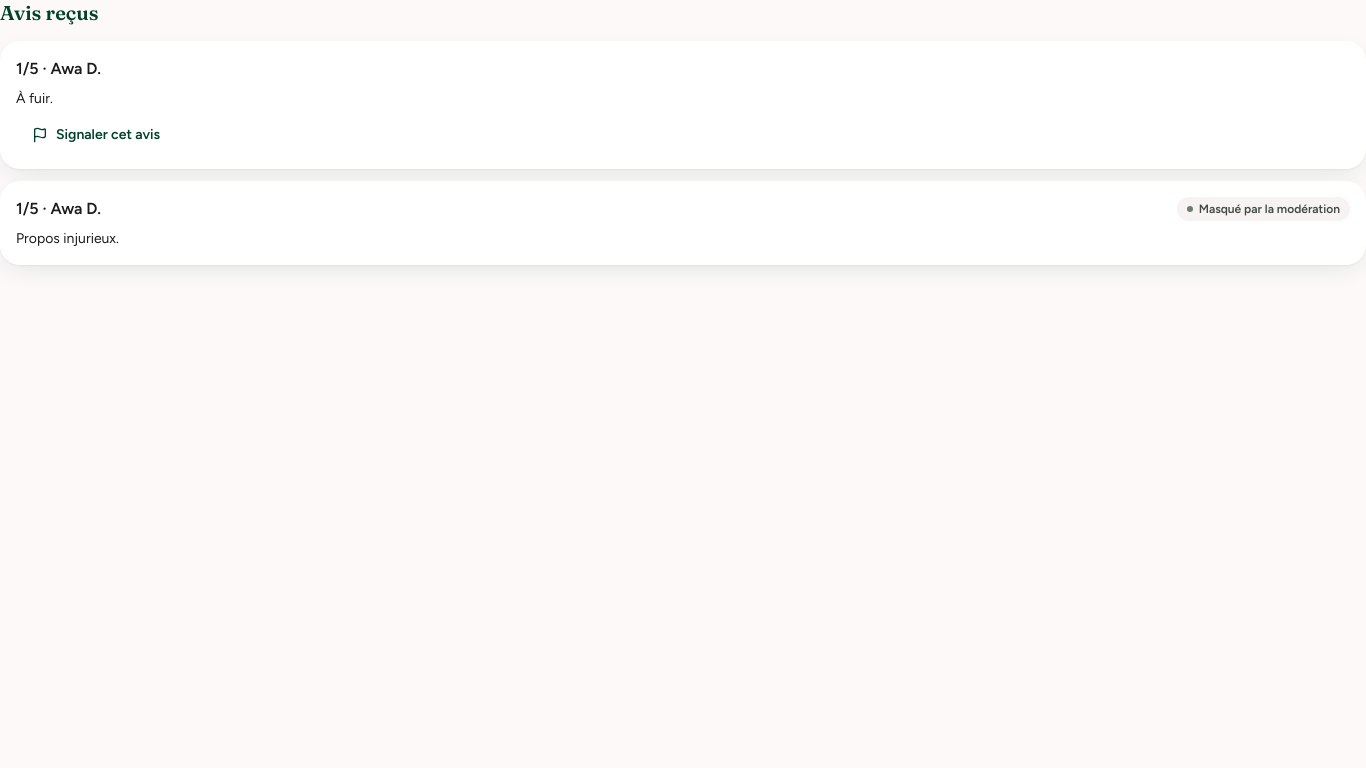
MyReviewsSection › montre la décision de modération et permet un signalement motivé, une seule fois
Expected: the text "Masqué par la modération" is shown, [1177,197,1350,221]
Click the button "Signaler cet avis": click(96, 135) [16,117,176,153]
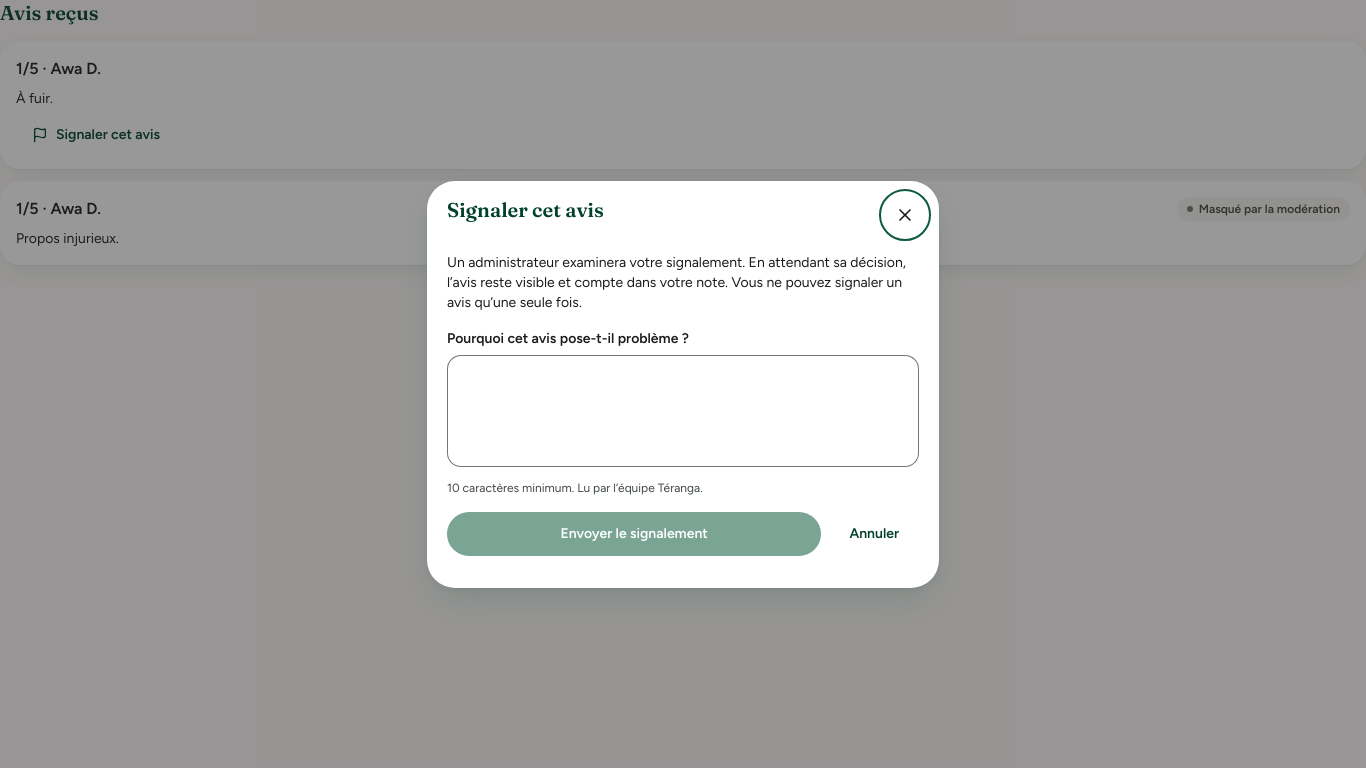
Now the text "l’avis reste visible et compte dans votre note" is shown, box [447,254,906,310]
Now the button "Envoyer le signalement" is disabled, box [447,512,821,556]
In the text box: (683, 410) [447,354,919,466], type "Ce client ne m’a jamais fait appel."
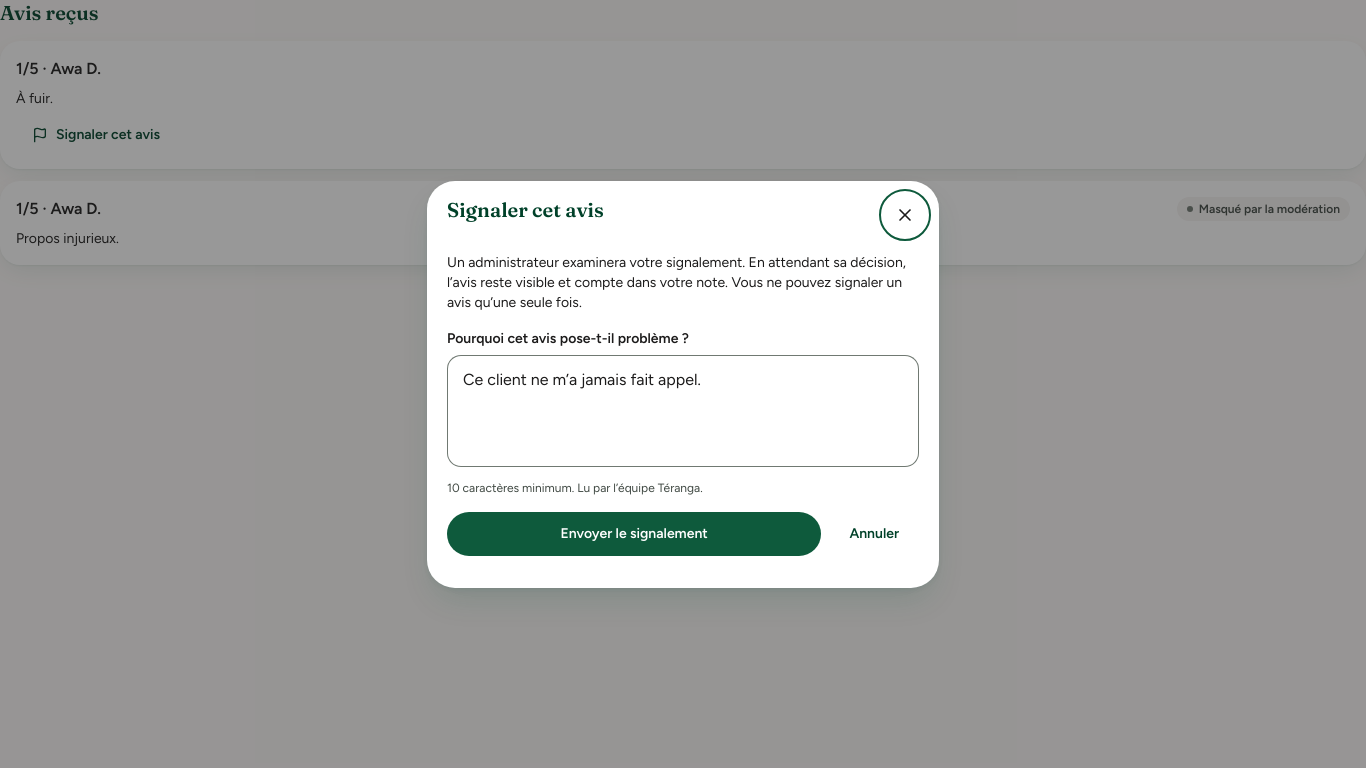
Click the button "Envoyer le signalement": click(634, 534) [447,512,821,556]
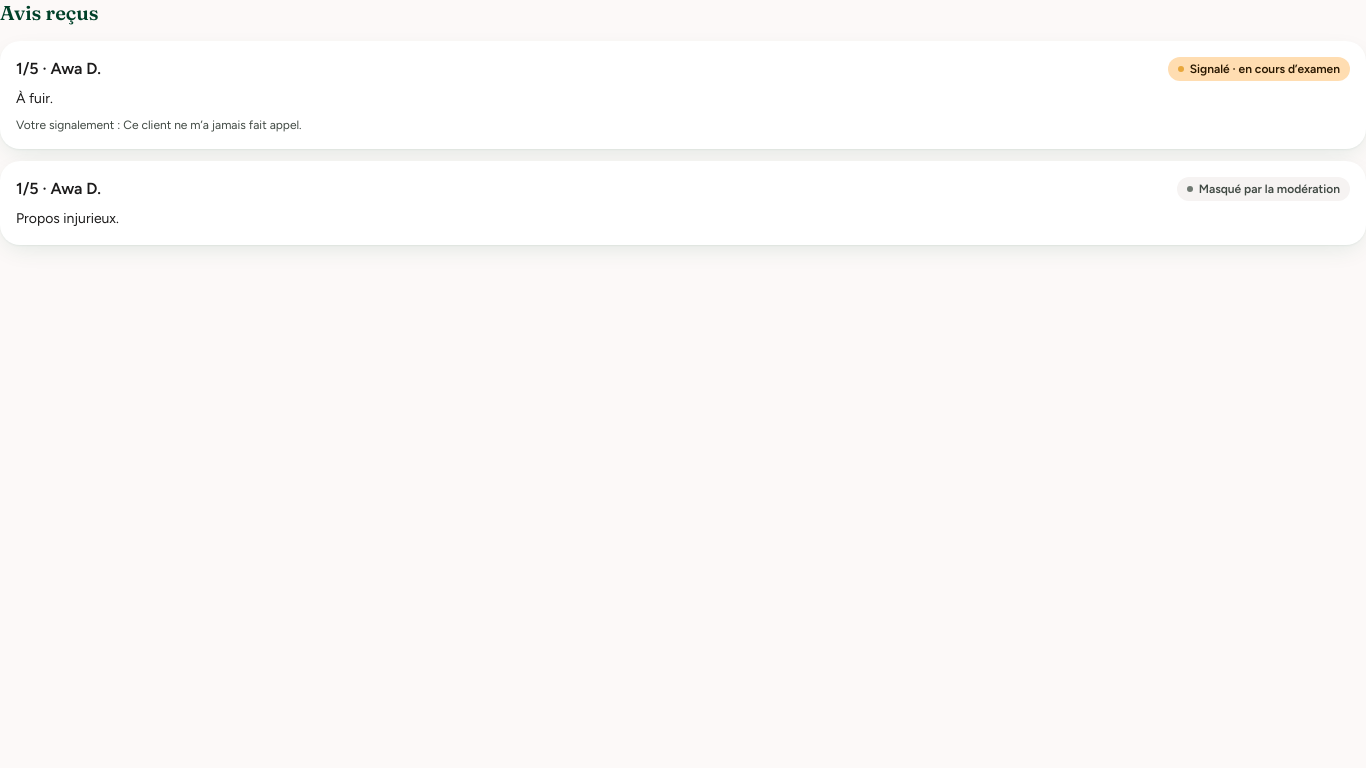
Now the text "Signalé · en cours d’examen" is shown, box [1168,57,1350,81]
Now the button "Signaler cet avis" is gone
